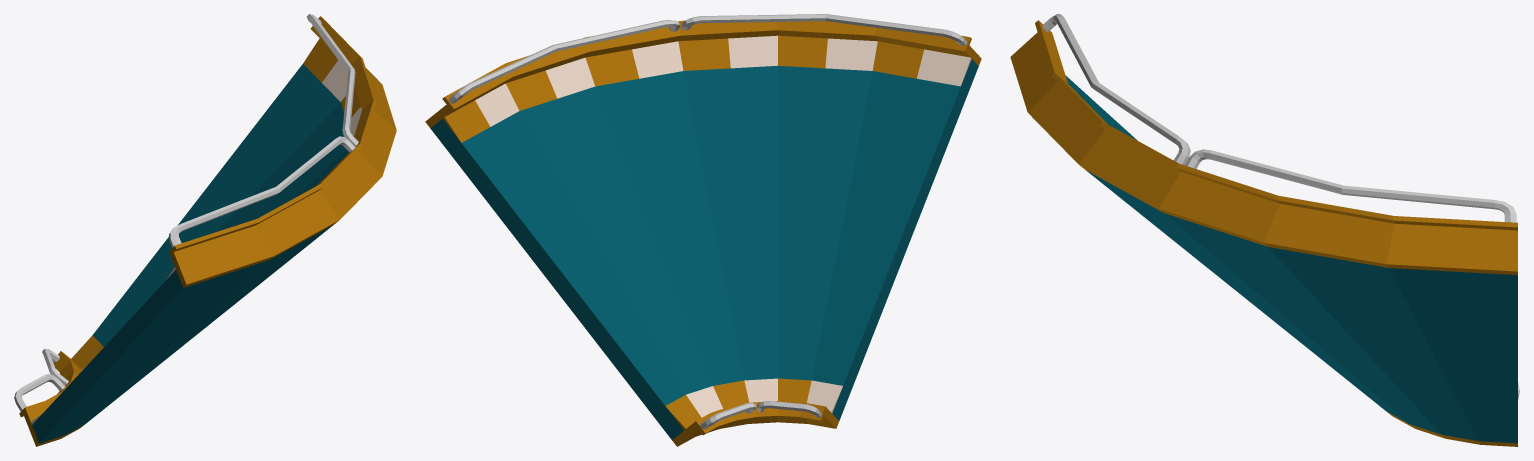
Rendered from bankedLeft-90-45_s.FBX.
The picture shows the model from 3 angles, left to right: view 1: azimuth 30°, elevation 25°; view 2: azimuth 150°, elevation 25°; view 3: azimuth 270°, elevation 25°; orthographic projection. The views are drawn at different scales.
Parts seen in each view (by area): view 1: bankedLeft-90-45, wall_r, wall_l, curbs_r, curbs_l; view 2: bankedLeft-90-45, curbs_r, wall_r, curbs_l, wall_l; view 3: bankedLeft-90-45, wall_r, wall_l.
Boxes of the visible parts, <box> form: bankedLeft-90-45: <box>32,64,348,443</box>; wall_r: <box>169,14,396,287</box>; wall_l: <box>14,348,84,446</box>; curbs_r: <box>165,38,361,280</box>; curbs_l: <box>31,335,103,424</box>; bankedLeft-90-45: <box>430,59,978,439</box>; curbs_r: <box>442,35,971,142</box>; wall_r: <box>425,14,981,128</box>; curbs_l: <box>665,378,842,430</box>; wall_l: <box>672,401,839,446</box>; bankedLeft-90-45: <box>1065,75,1517,443</box>; wall_r: <box>1010,14,1517,275</box>; wall_l: <box>1386,382,1519,446</box>.
Size of what is drawn, in the model's own units: 199 by 163 by 199.
